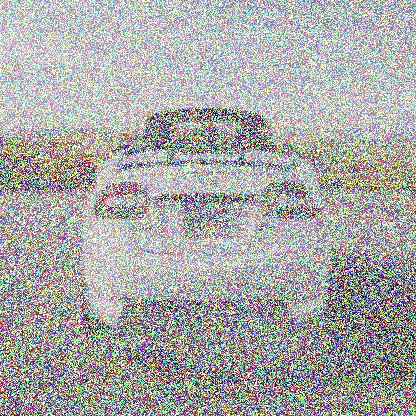Vehicle: (80, 109, 332, 348)
